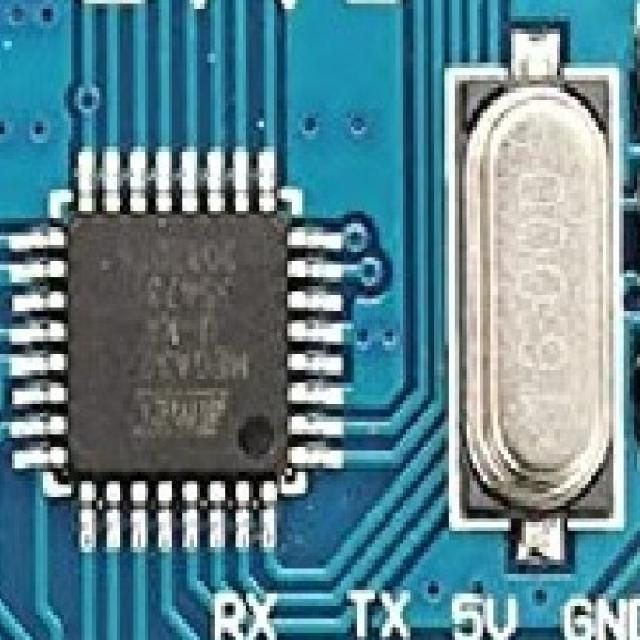IC: (17, 152, 331, 554)
clock Q1: (440, 33, 640, 542)
